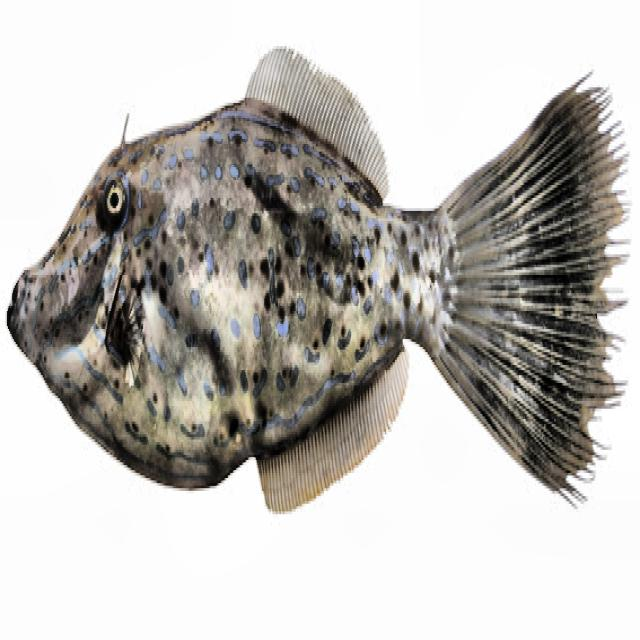fish: (6, 45, 630, 511)
